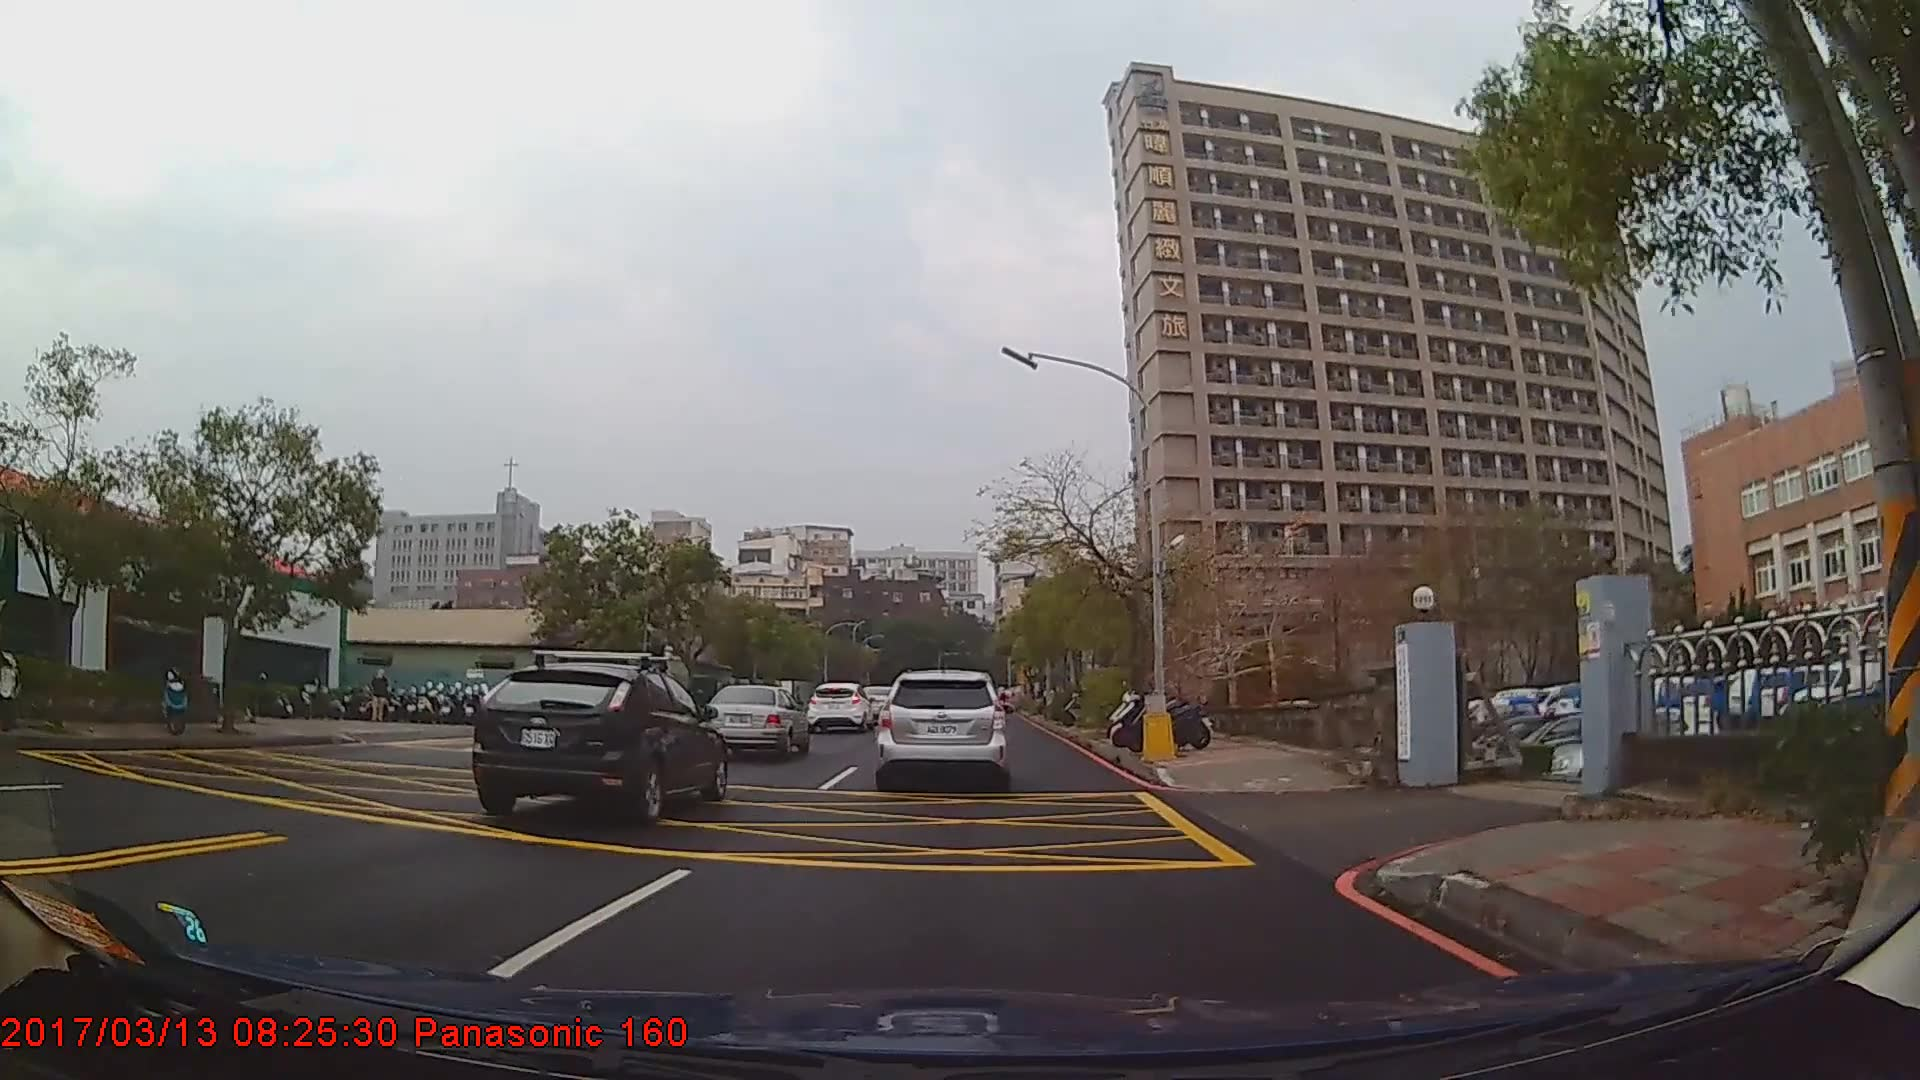pedestrian: (371, 669, 391, 725)
vehicle: (469, 662, 725, 824), (876, 669, 1005, 788), (702, 682, 810, 758), (806, 679, 873, 731)
